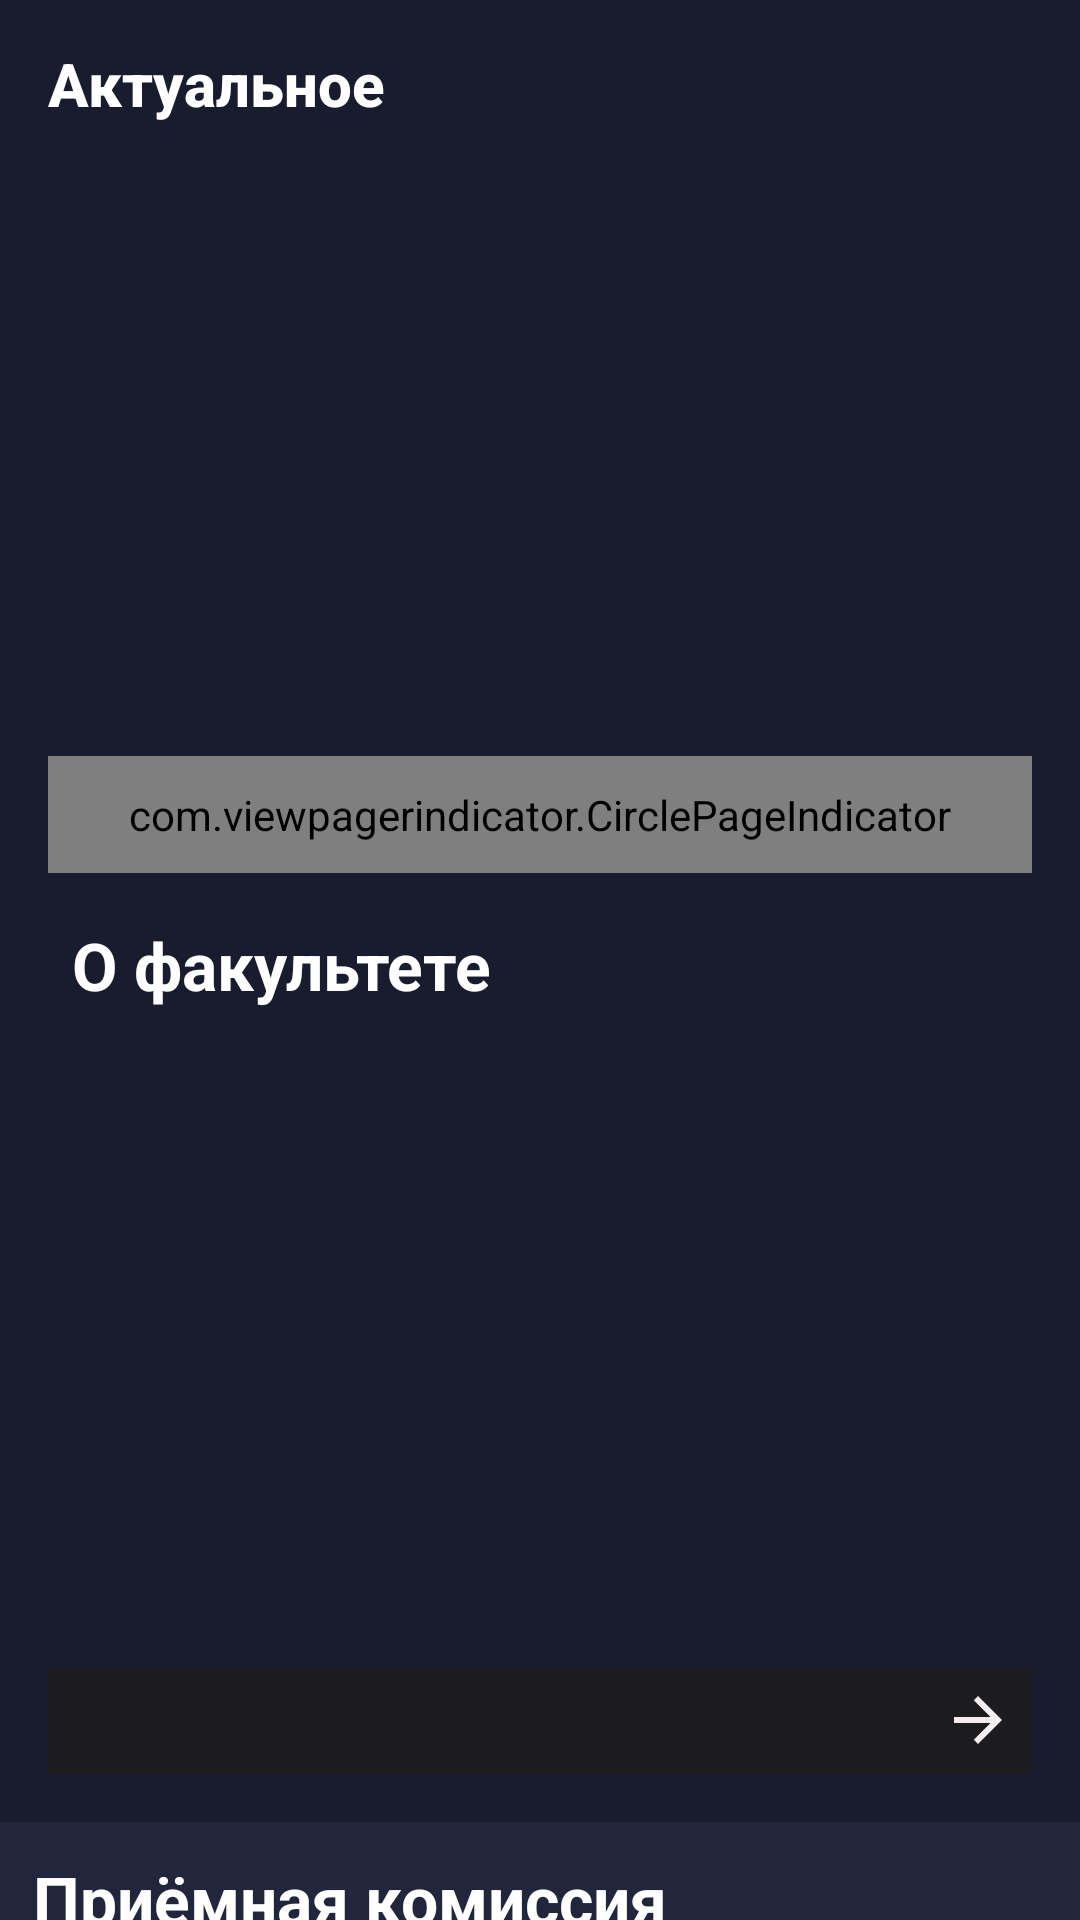

Screen size 1080 × 1920. Icon name, then its center in pixels as (x,y):
arrow forward: (978,1721)
